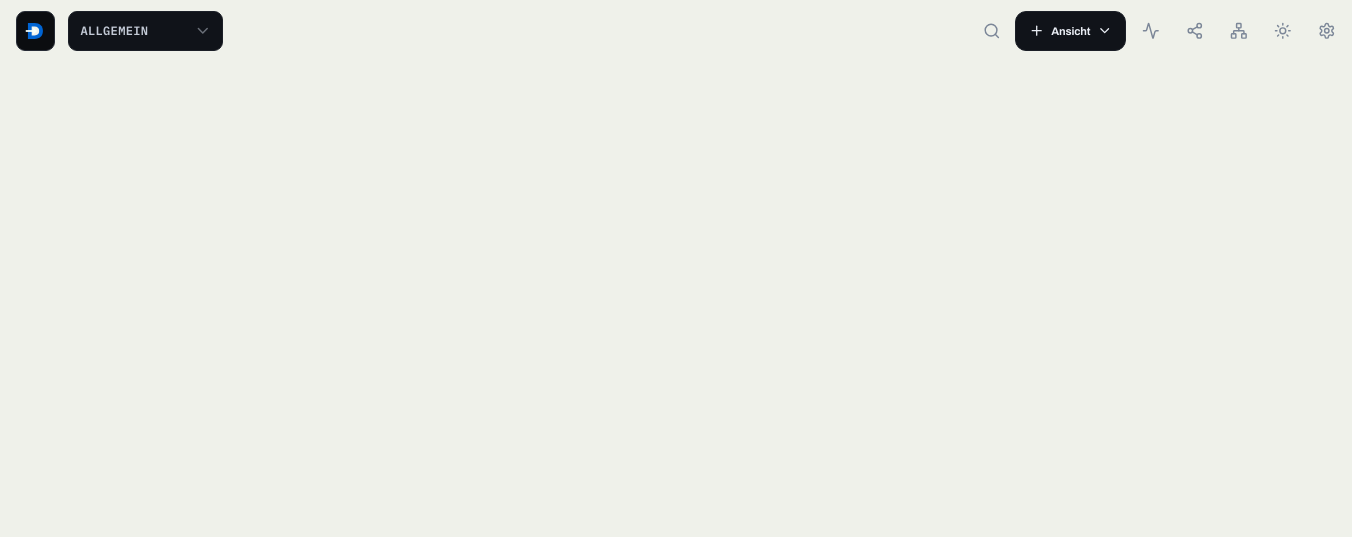
Test: GlobalSearch manual loading per category › offers a load-more button only for categories with further hits and shows the remaining count
The image size is (1352, 537).
Click the button named "Suche öffnen" at (992, 31), box [972,11,1012,51]
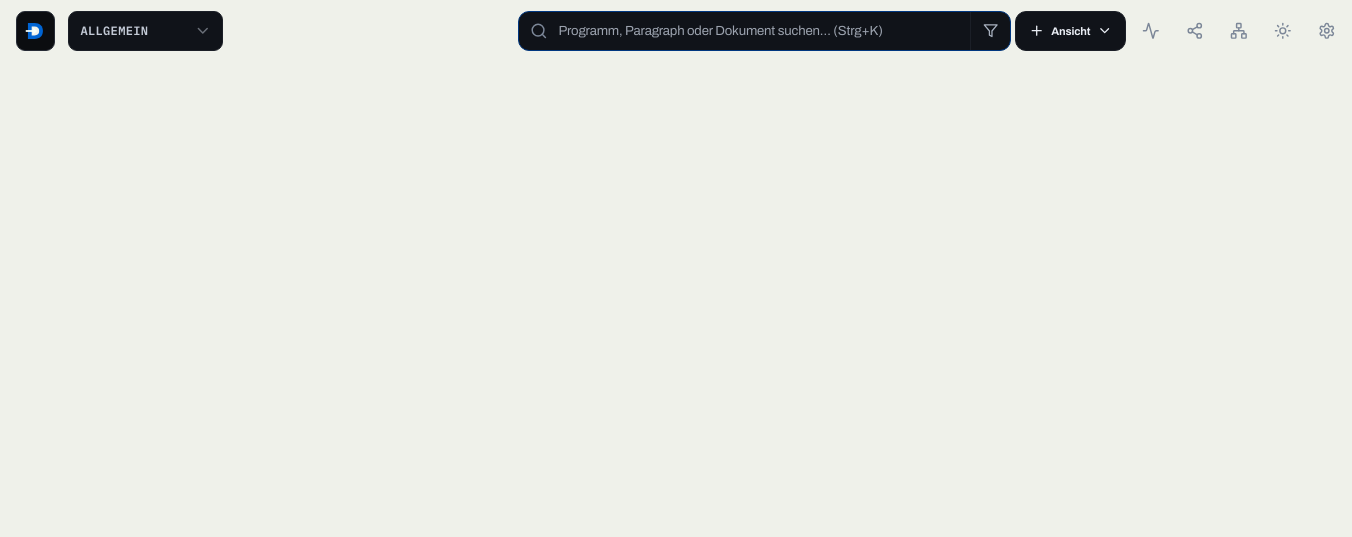
Type "ZAHLUNG" into the field with placeholder "Programm, Paragraph oder Dokument suchen… (Strg+K)" at (764, 31), box [558,12,970,50]
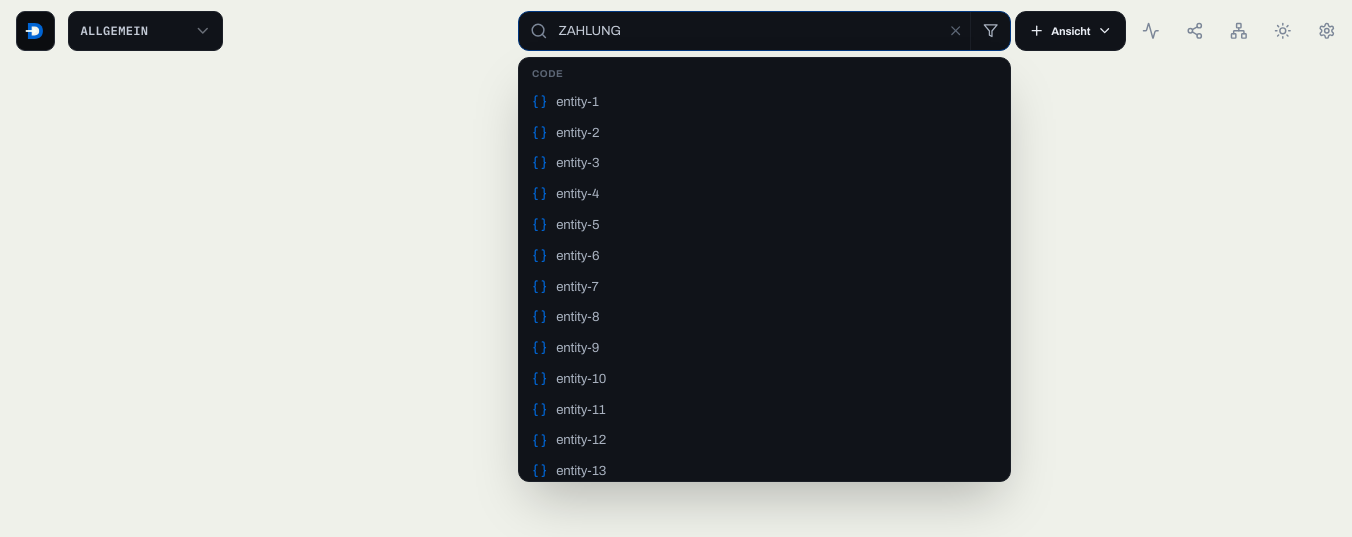
Now the text "entity-1" is shown, box [556,94,599,109]
